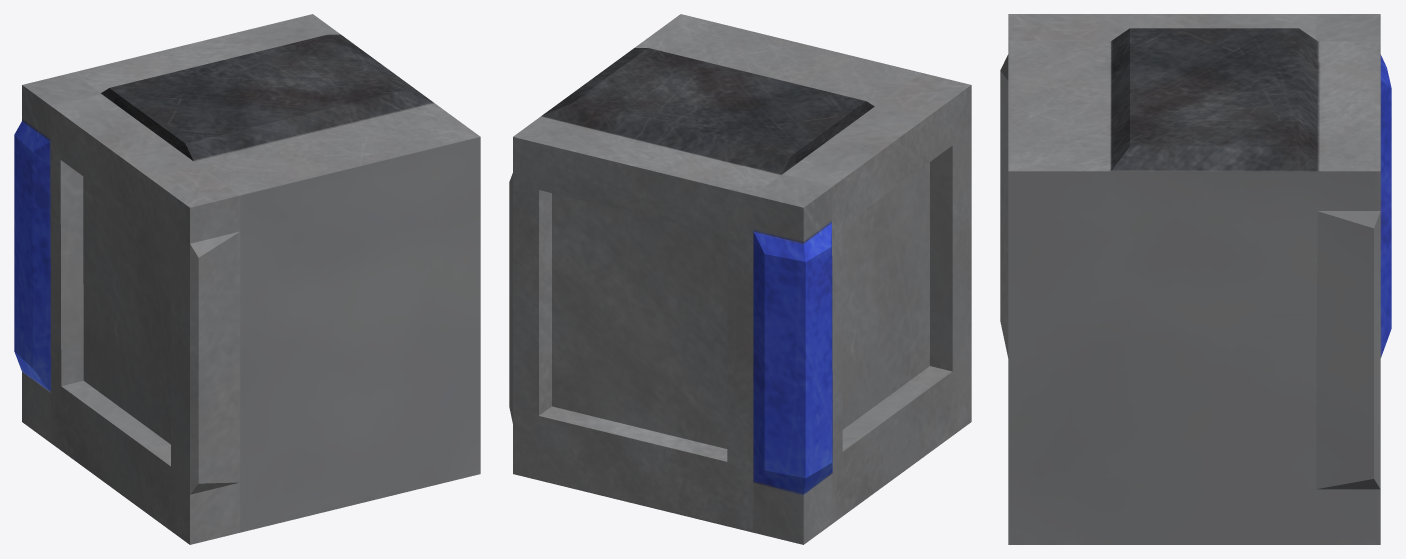
The model's file is strct_WH_B_FloorShelf_CornerShelf.fbx.
The picture shows the model from 3 angles, left to right: view 1: azimuth 30°, elevation 25°; view 2: azimuth 150°, elevation 25°; view 3: azimuth 270°, elevation 25°; orthographic projection. The views are drawn at different scales.
Parts seen in each view (by area): view 1: Corner_Shelf; view 2: Corner_Shelf; view 3: Corner_Shelf.
Part boxes in pixels (x1,y1,x2,y2): Corner_Shelf: (14,14,480,544); Corner_Shelf: (509,14,971,544); Corner_Shelf: (1000,14,1391,544).
Bounding box in the file's own units: 243 × 265 × 243.
